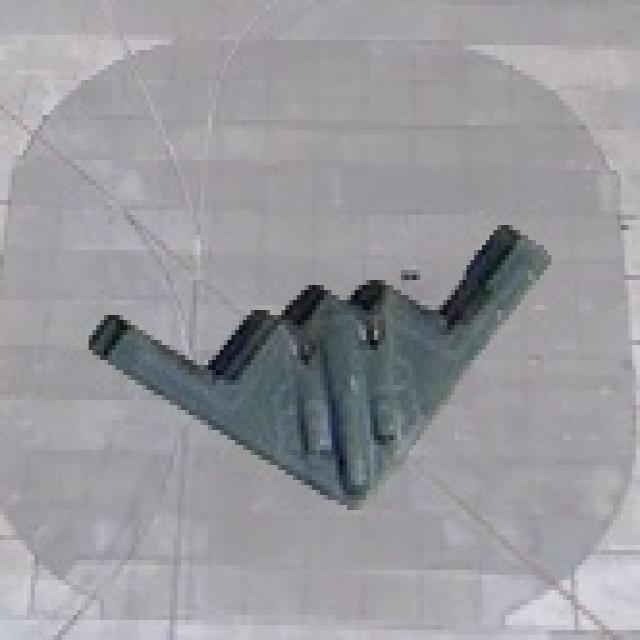B-2_TopDown: (85, 215, 551, 510)
